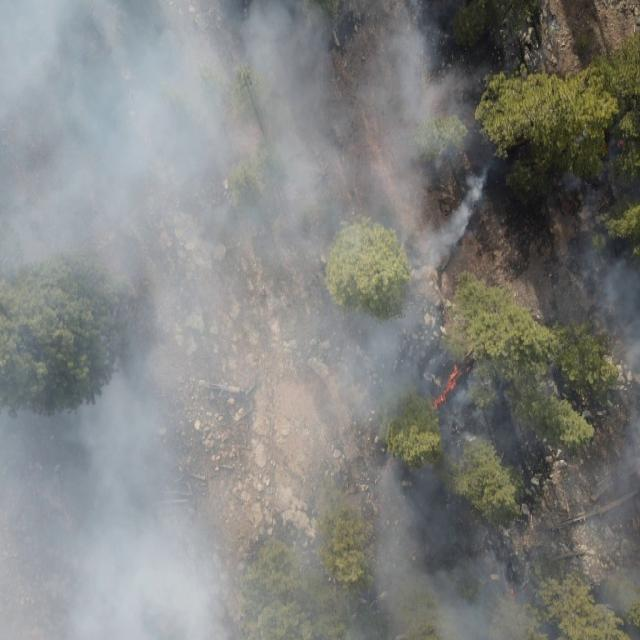fire: (428, 357, 473, 415), (506, 584, 518, 600)
smoke: (0, 183, 640, 635), (0, 0, 485, 182)
